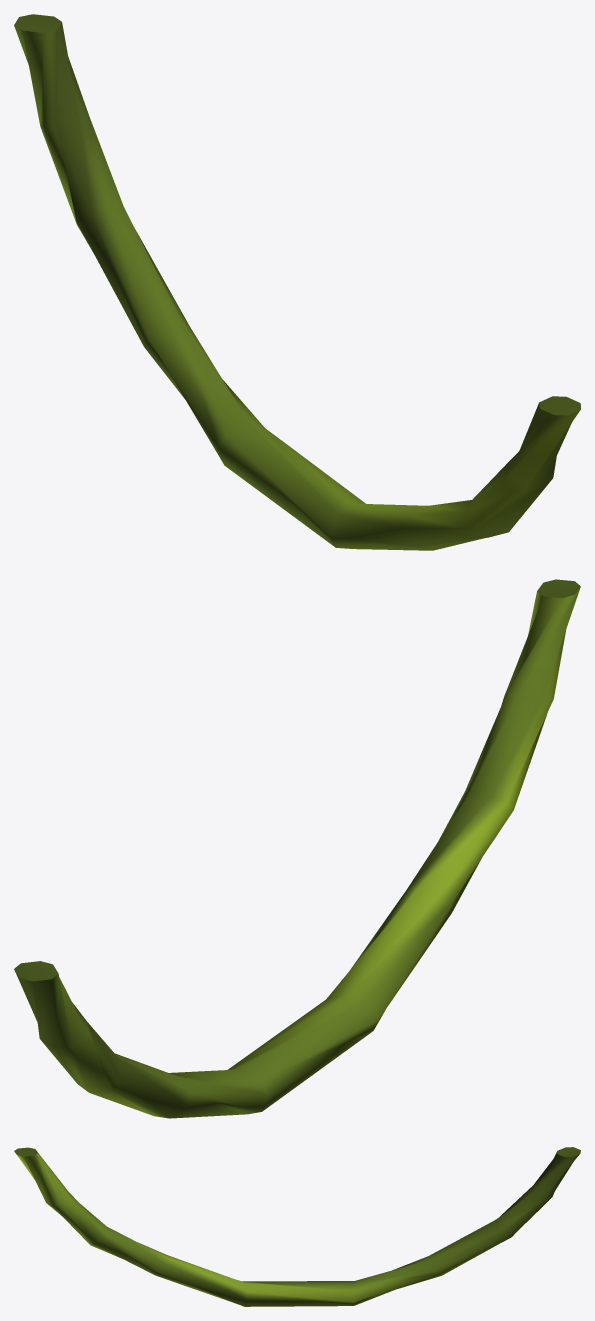
File: vine2.fbx
3 renders of one model, top to bottom at view 1: azimuth 30°, elevation 25°; view 2: azimuth 150°, elevation 25°; view 3: azimuth 270°, elevation 25°, orthographic. The views are drawn at different scales.
Visible parts, largest first — view 1: vine2; view 2: vine2; view 3: vine2.
Part boxes in pixels (x1=…): vine2: x1=14, y1=14, x2=580, y2=550; vine2: x1=14, y1=579, x2=580, y2=1118; vine2: x1=14, y1=1147, x2=580, y2=1306.
Size of the model in its own units: 16.63 by 90.97 by 305.
1 material, 1 textured.
